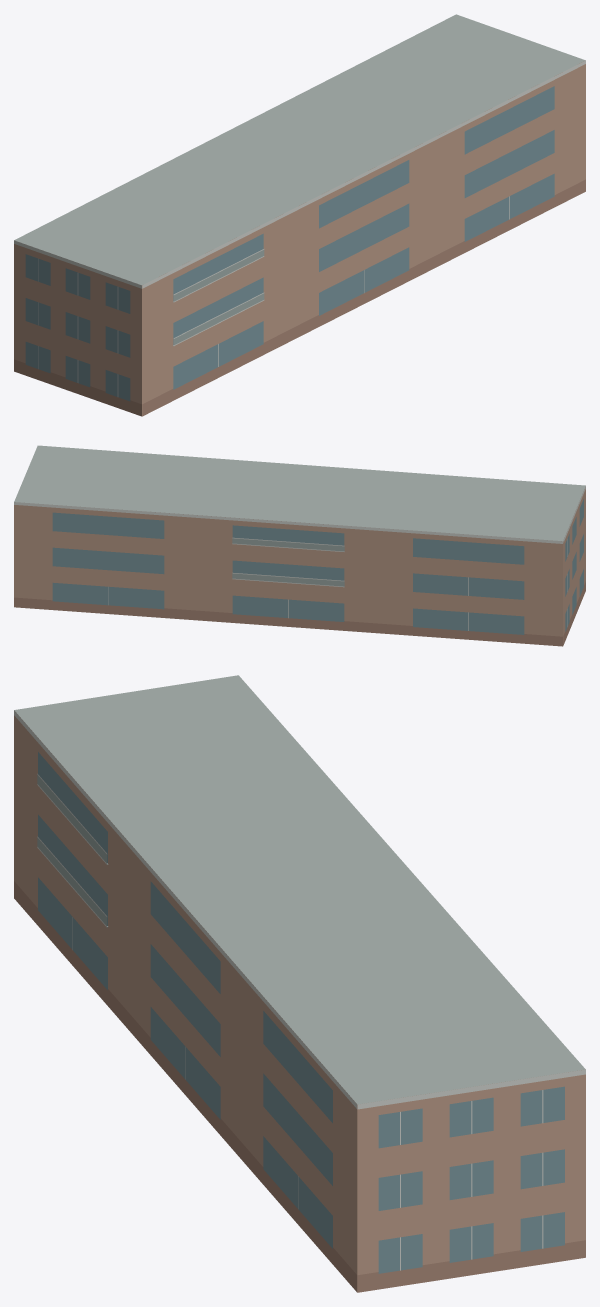
Rendered from survey-upis-32526754.glb.
The picture shows the model from 3 angles, top to bottom: view 1: azimuth 30°, elevation 25°; view 2: azimuth 150°, elevation 25°; view 3: azimuth 270°, elevation 25°; orthographic projection. The views are drawn at different scales.
Parts seen in each view (by area): view 1: survey-upis-32526754.tmp; view 2: survey-upis-32526754.tmp; view 3: survey-upis-32526754.tmp.
Boxes of the visible parts, x1=… form: survey-upis-32526754.tmp: x1=14, y1=14, x2=585, y2=416; survey-upis-32526754.tmp: x1=14, y1=445, x2=585, y2=646; survey-upis-32526754.tmp: x1=14, y1=675, x2=585, y2=1292.
Size of the model in its own units: 44.77 by 9.15 by 25.2.
